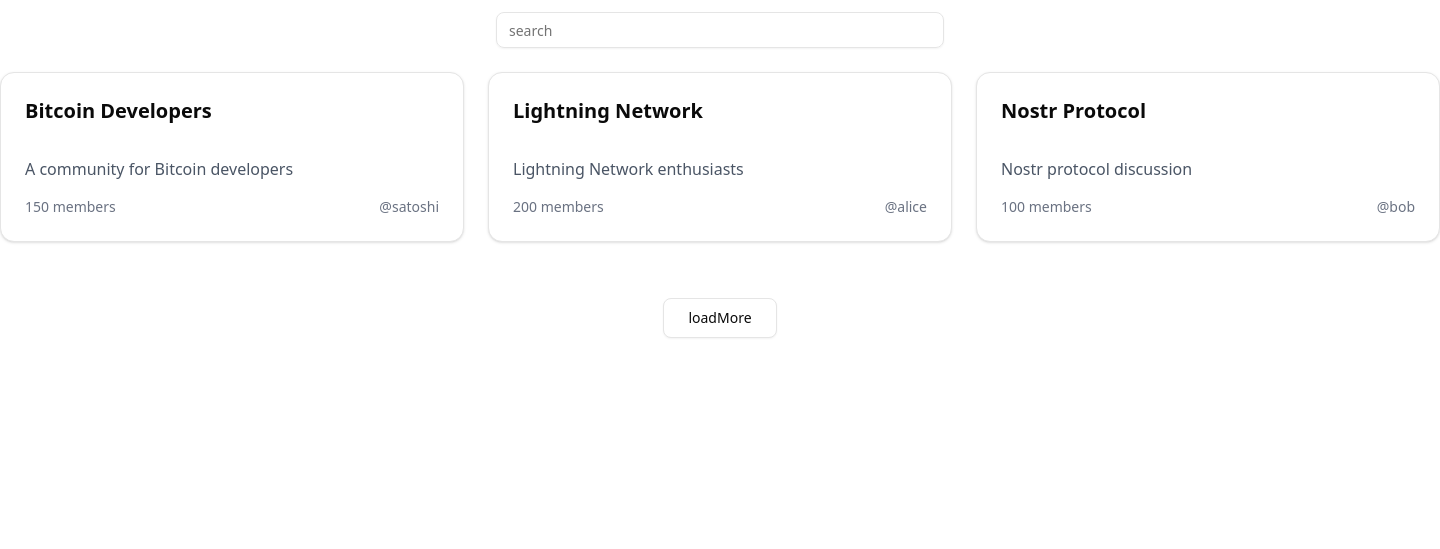
Test case: CommunitiesGrid Component › Load More Functionality › should append new communities to existing list
This screenshot has width=1440, height=549.
Click the button "loadMore". click: {"x": 720, "y": 318}
box: [663,298,776,338]
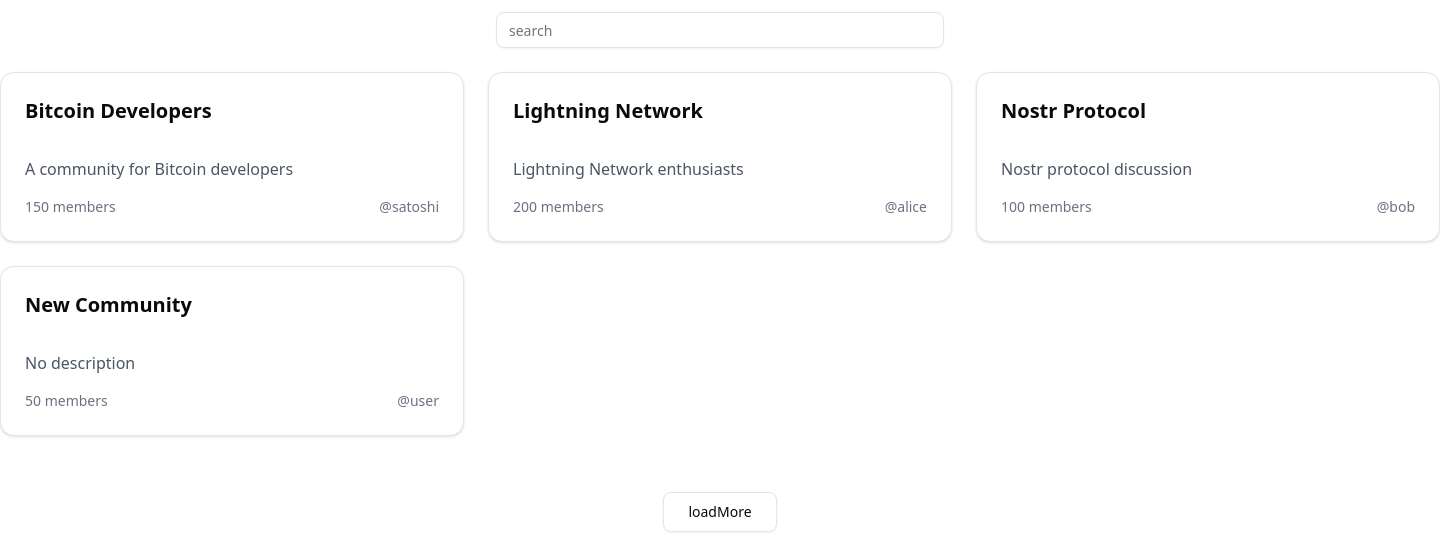
Now the text "New Community" is shown, box [25,291,192,318]
